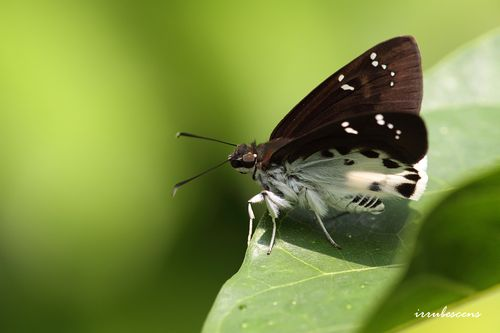Hesperiidae: (168, 34, 427, 250)
